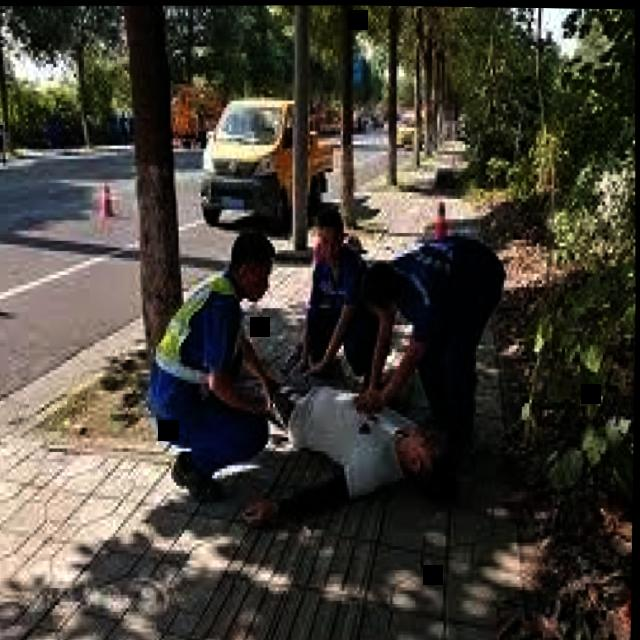Fall-Detected: (235, 361, 461, 535)
